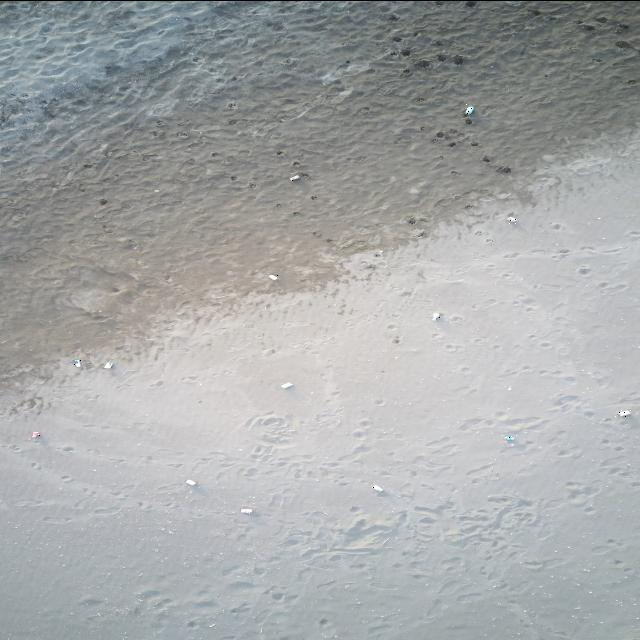Garbage: (464, 104, 473, 116), (617, 409, 630, 416), (496, 166, 511, 172), (372, 484, 383, 492), (184, 479, 196, 486), (452, 55, 462, 63), (289, 173, 300, 180), (71, 359, 80, 367), (240, 507, 251, 513), (32, 431, 40, 439), (432, 312, 440, 320), (504, 433, 513, 440), (103, 360, 112, 367), (280, 382, 292, 387), (268, 273, 278, 279), (464, 116, 472, 123), (507, 216, 515, 223), (407, 216, 415, 223), (373, 249, 382, 255)
